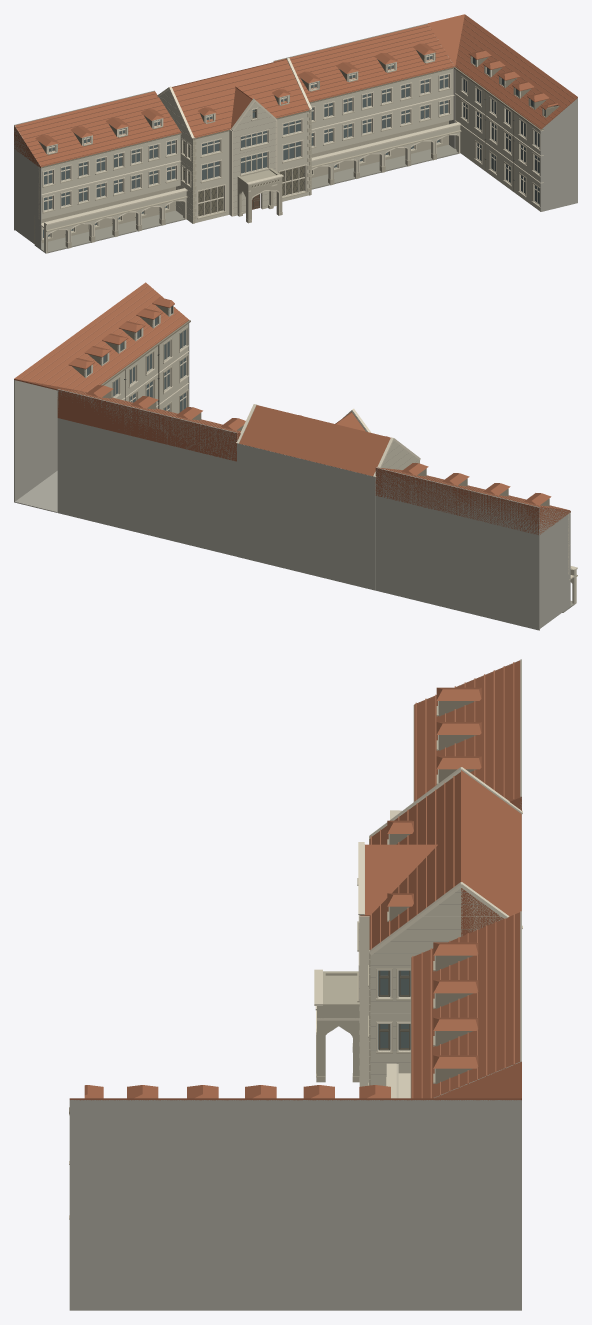
File: lod-source.glb
3 renders of one model, top to bottom at view 1: azimuth 30°, elevation 25°; view 2: azimuth 150°, elevation 25°; view 3: azimuth 270°, elevation 25°, orthographic. The views are drawn at different scales.
Visible parts, largest first — view 1: 中西女中东楼（五一楼）院落立面; view 2: 中西女中东楼（五一楼）院落立面; view 3: 中西女中东楼（五一楼）院落立面.
Part boxes in pixels (box(x1,y1,x2,y2)): 中西女中东楼（五一楼）院落立面: box(14, 14, 577, 253); 中西女中东楼（五一楼）院落立面: box(14, 282, 577, 630); 中西女中东楼（五一楼）院落立面: box(69, 659, 522, 1310).
Bounding box in the file's own units: 77.08 × 19.61 × 33.6.
